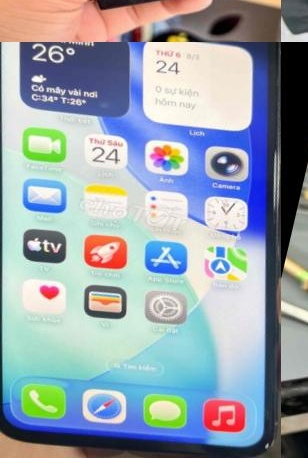scratch: (258, 143, 281, 212)
